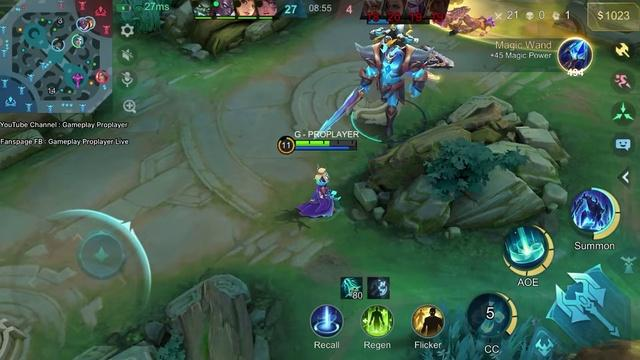Adc_Aliado: (78, 18, 88, 29)
Exp_Aliado: (50, 39, 64, 51)
HP_Heroe_Principal: (294, 140, 358, 145)
Hechizo_Batalla: (411, 305, 444, 337)
Jungla_Aliado: (84, 17, 97, 28)
Jungla_Enemigo: (95, 70, 108, 83)
Lord_Mapa: (71, 72, 85, 89)
Lord_Vexana: (325, 26, 453, 138)
Mana: (295, 148, 358, 151)
Mid_Aliado: (70, 36, 84, 47)
Minimapa: (0, 0, 114, 113)
Skill2: (503, 225, 553, 275)
Skill3: (570, 187, 620, 239)
Vexana: (296, 167, 338, 216)
